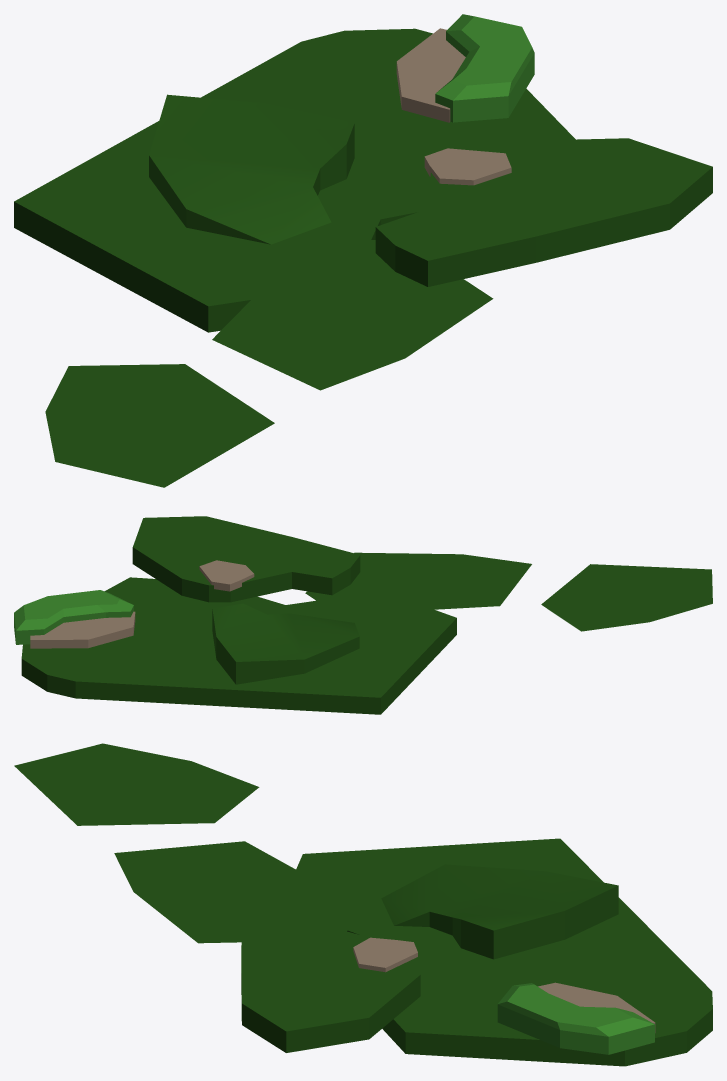
The model's file is Sol.fbx.
3 views of the same model, one above another, from view 1: azimuth 30°, elevation 25°; view 2: azimuth 150°, elevation 25°; view 3: azimuth 270°, elevation 25° (orthographic). The views are drawn at different scales.
Visible parts, largest first — view 1: Ground, Ground_1, PolyShape__10_, Ground_2, Ground_3, PolyShape__5_, Platforme, PolyShape__8_; view 2: Ground, Ground_1, Ground_2, PolyShape__10_, Ground_3, PolyShape__5_, Platforme, PolyShape__8_; view 3: Ground, Ground_1, PolyShape__10_, Ground_3, Ground_2, PolyShape__5_, PolyShape__8_, Platforme.
Boxes of the visible parts, bbox=[...] form: Ground: bbox=[14, 28, 575, 332]; Ground_1: bbox=[375, 138, 712, 286]; PolyShape__10_: bbox=[149, 94, 354, 244]; Ground_2: bbox=[212, 240, 493, 390]; Ground_3: bbox=[45, 364, 274, 487]; PolyShape__5_: bbox=[435, 14, 534, 122]; Platforme: bbox=[396, 28, 465, 122]; PolyShape__8_: bbox=[424, 148, 511, 185]; Ground: bbox=[21, 577, 456, 714]; Ground_1: bbox=[132, 516, 360, 602]; Ground_2: bbox=[305, 552, 531, 619]; PolyShape__10_: bbox=[212, 603, 359, 684]; Ground_3: bbox=[541, 564, 712, 631]; PolyShape__5_: bbox=[14, 590, 133, 644]; Platforme: bbox=[30, 611, 135, 648]; PolyShape__8_: bbox=[199, 560, 254, 591]; Ground: bbox=[281, 838, 712, 1066]; Ground_1: bbox=[241, 903, 420, 1052]; PolyShape__10_: bbox=[381, 864, 618, 959]; Ground_3: bbox=[14, 743, 259, 825]; Ground_2: bbox=[114, 841, 379, 943]; PolyShape__5_: bbox=[497, 983, 654, 1054]; PolyShape__8_: bbox=[353, 937, 417, 972]; Platforme: bbox=[538, 982, 655, 1032].
Bounding box in the file's own units: 18463 × 1400 × 17513.
